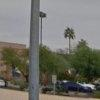Palm tree: (57, 20, 77, 61)
